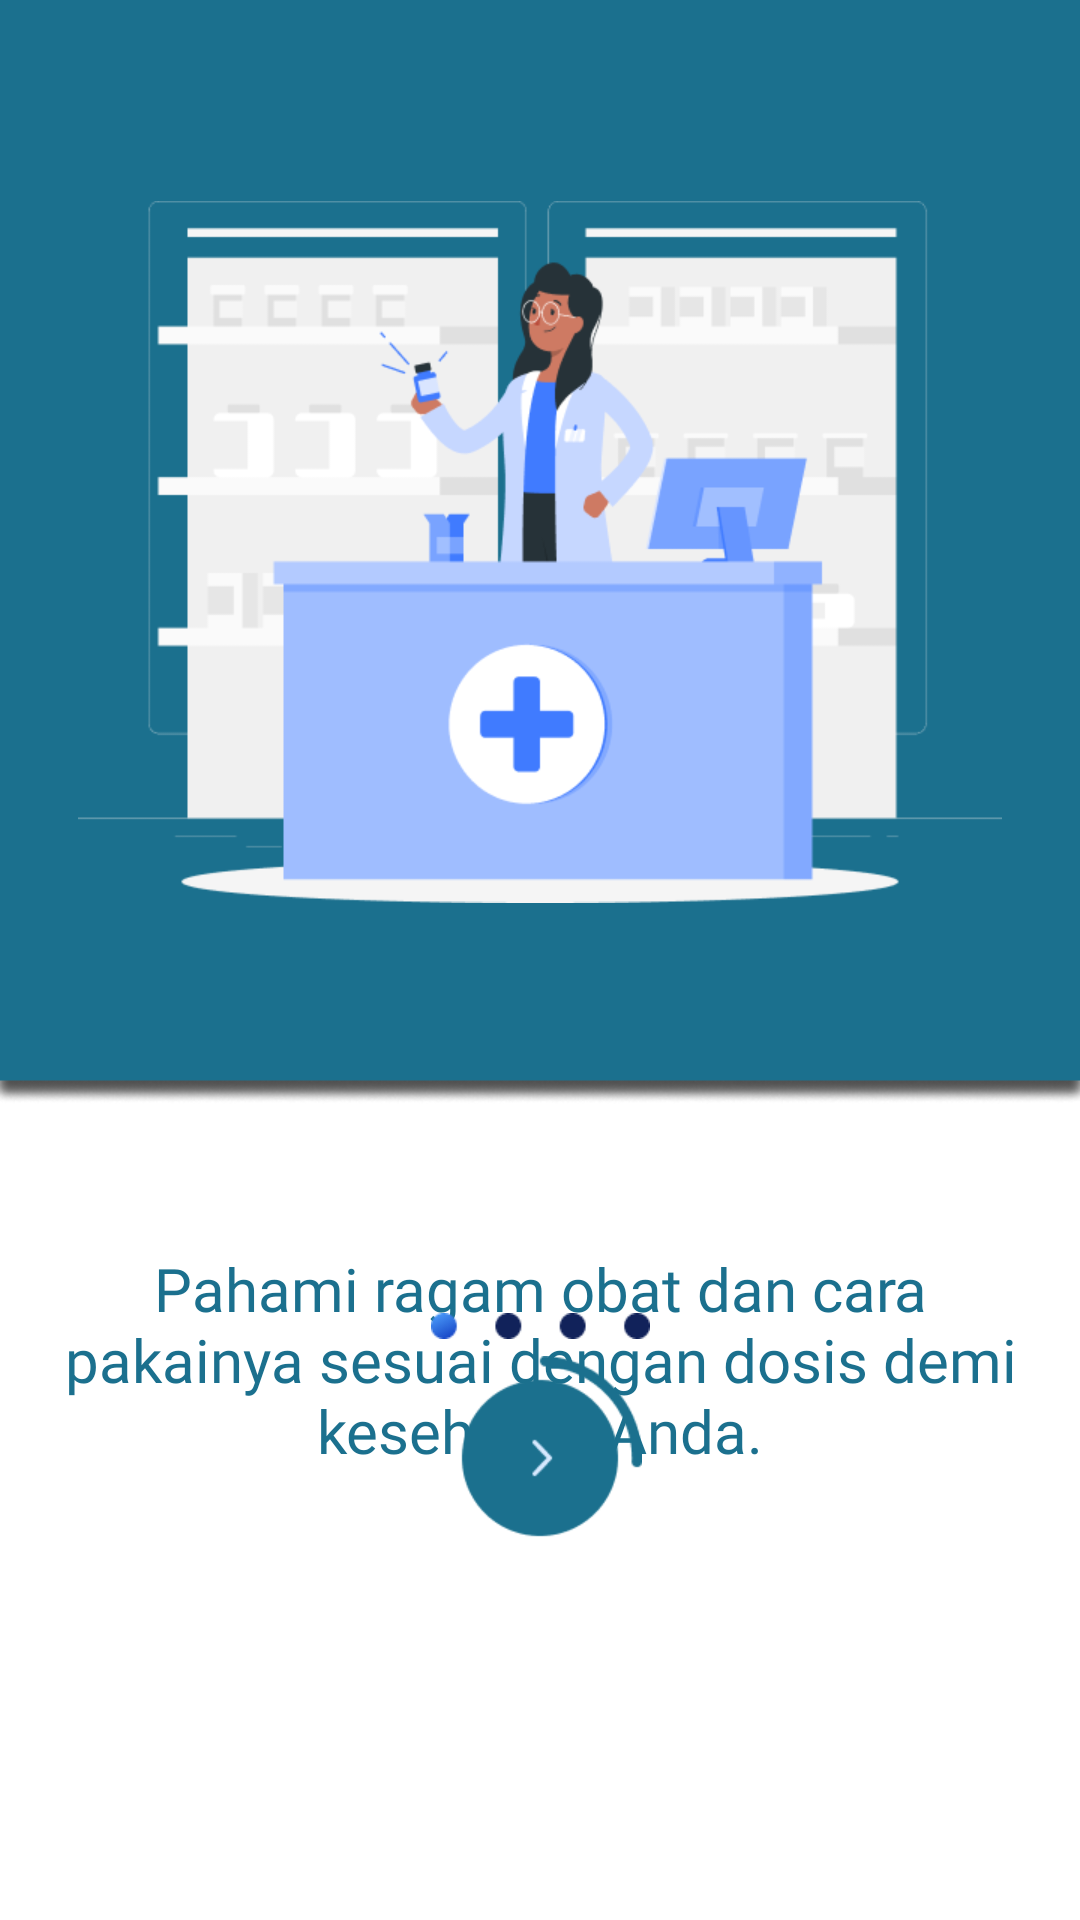

Icons on this 1080px x 1920px Android screen, each with the point to tap as [x,y]:
Dot to Slide: [540,1326]
Next 1: [540,1446]
